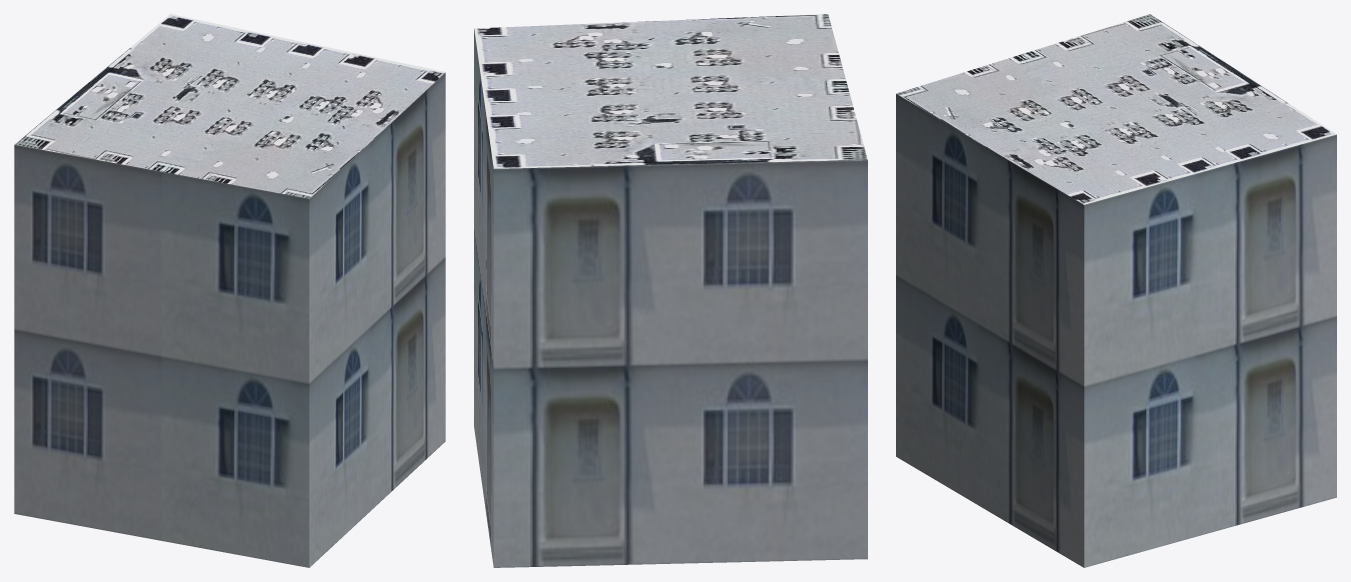
The model's file is ResTex__2367.fbx.
3 views of the same model, side by side, from view 1: azimuth 30°, elevation 25°; view 2: azimuth 150°, elevation 25°; view 3: azimuth 270°, elevation 25° (orthographic). The views are drawn at different scales.
Parts seen in each view (by area): view 1: CityEngineMaterial_17_m, CityEngineMaterial_4_m; view 2: CityEngineMaterial_17_m, CityEngineMaterial_4_m; view 3: CityEngineMaterial_17_m, CityEngineMaterial_4_m.
Part boxes in pixels (x1,y1,x2,y2): CityEngineMaterial_17_m: (14,72,445,567); CityEngineMaterial_4_m: (15,14,445,198); CityEngineMaterial_17_m: (474,29,867,567); CityEngineMaterial_4_m: (474,14,867,168); CityEngineMaterial_17_m: (896,94,1336,567); CityEngineMaterial_4_m: (896,14,1336,204).
Size of the model in its own units: 6.77 by 6 by 6.6.
2 materials, 2 textured.
